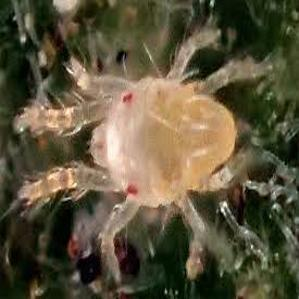spider mite: (15, 21, 275, 285)
